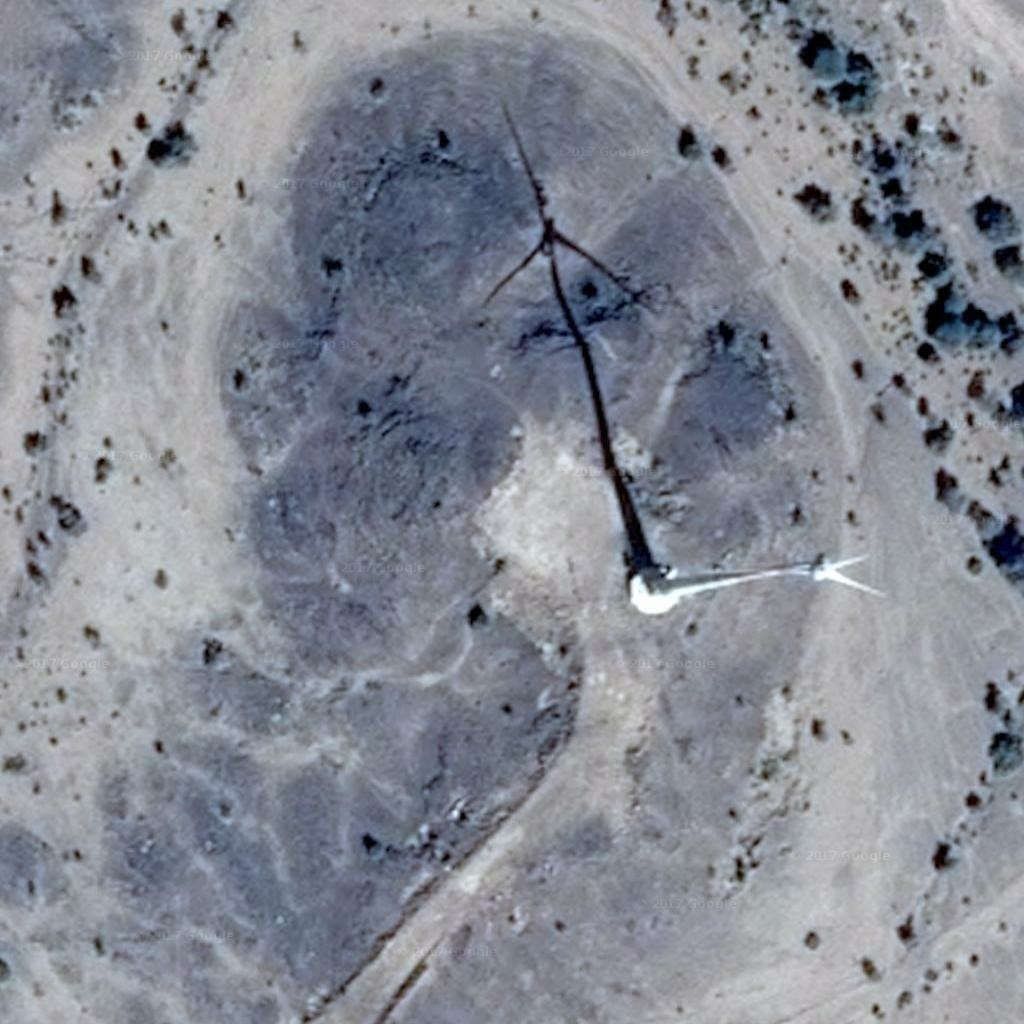Windmill: (482, 103, 666, 582)
